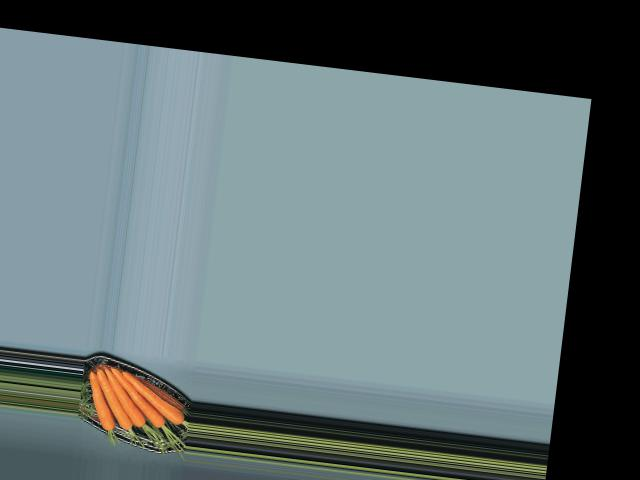carrot: (81, 370, 116, 430)
